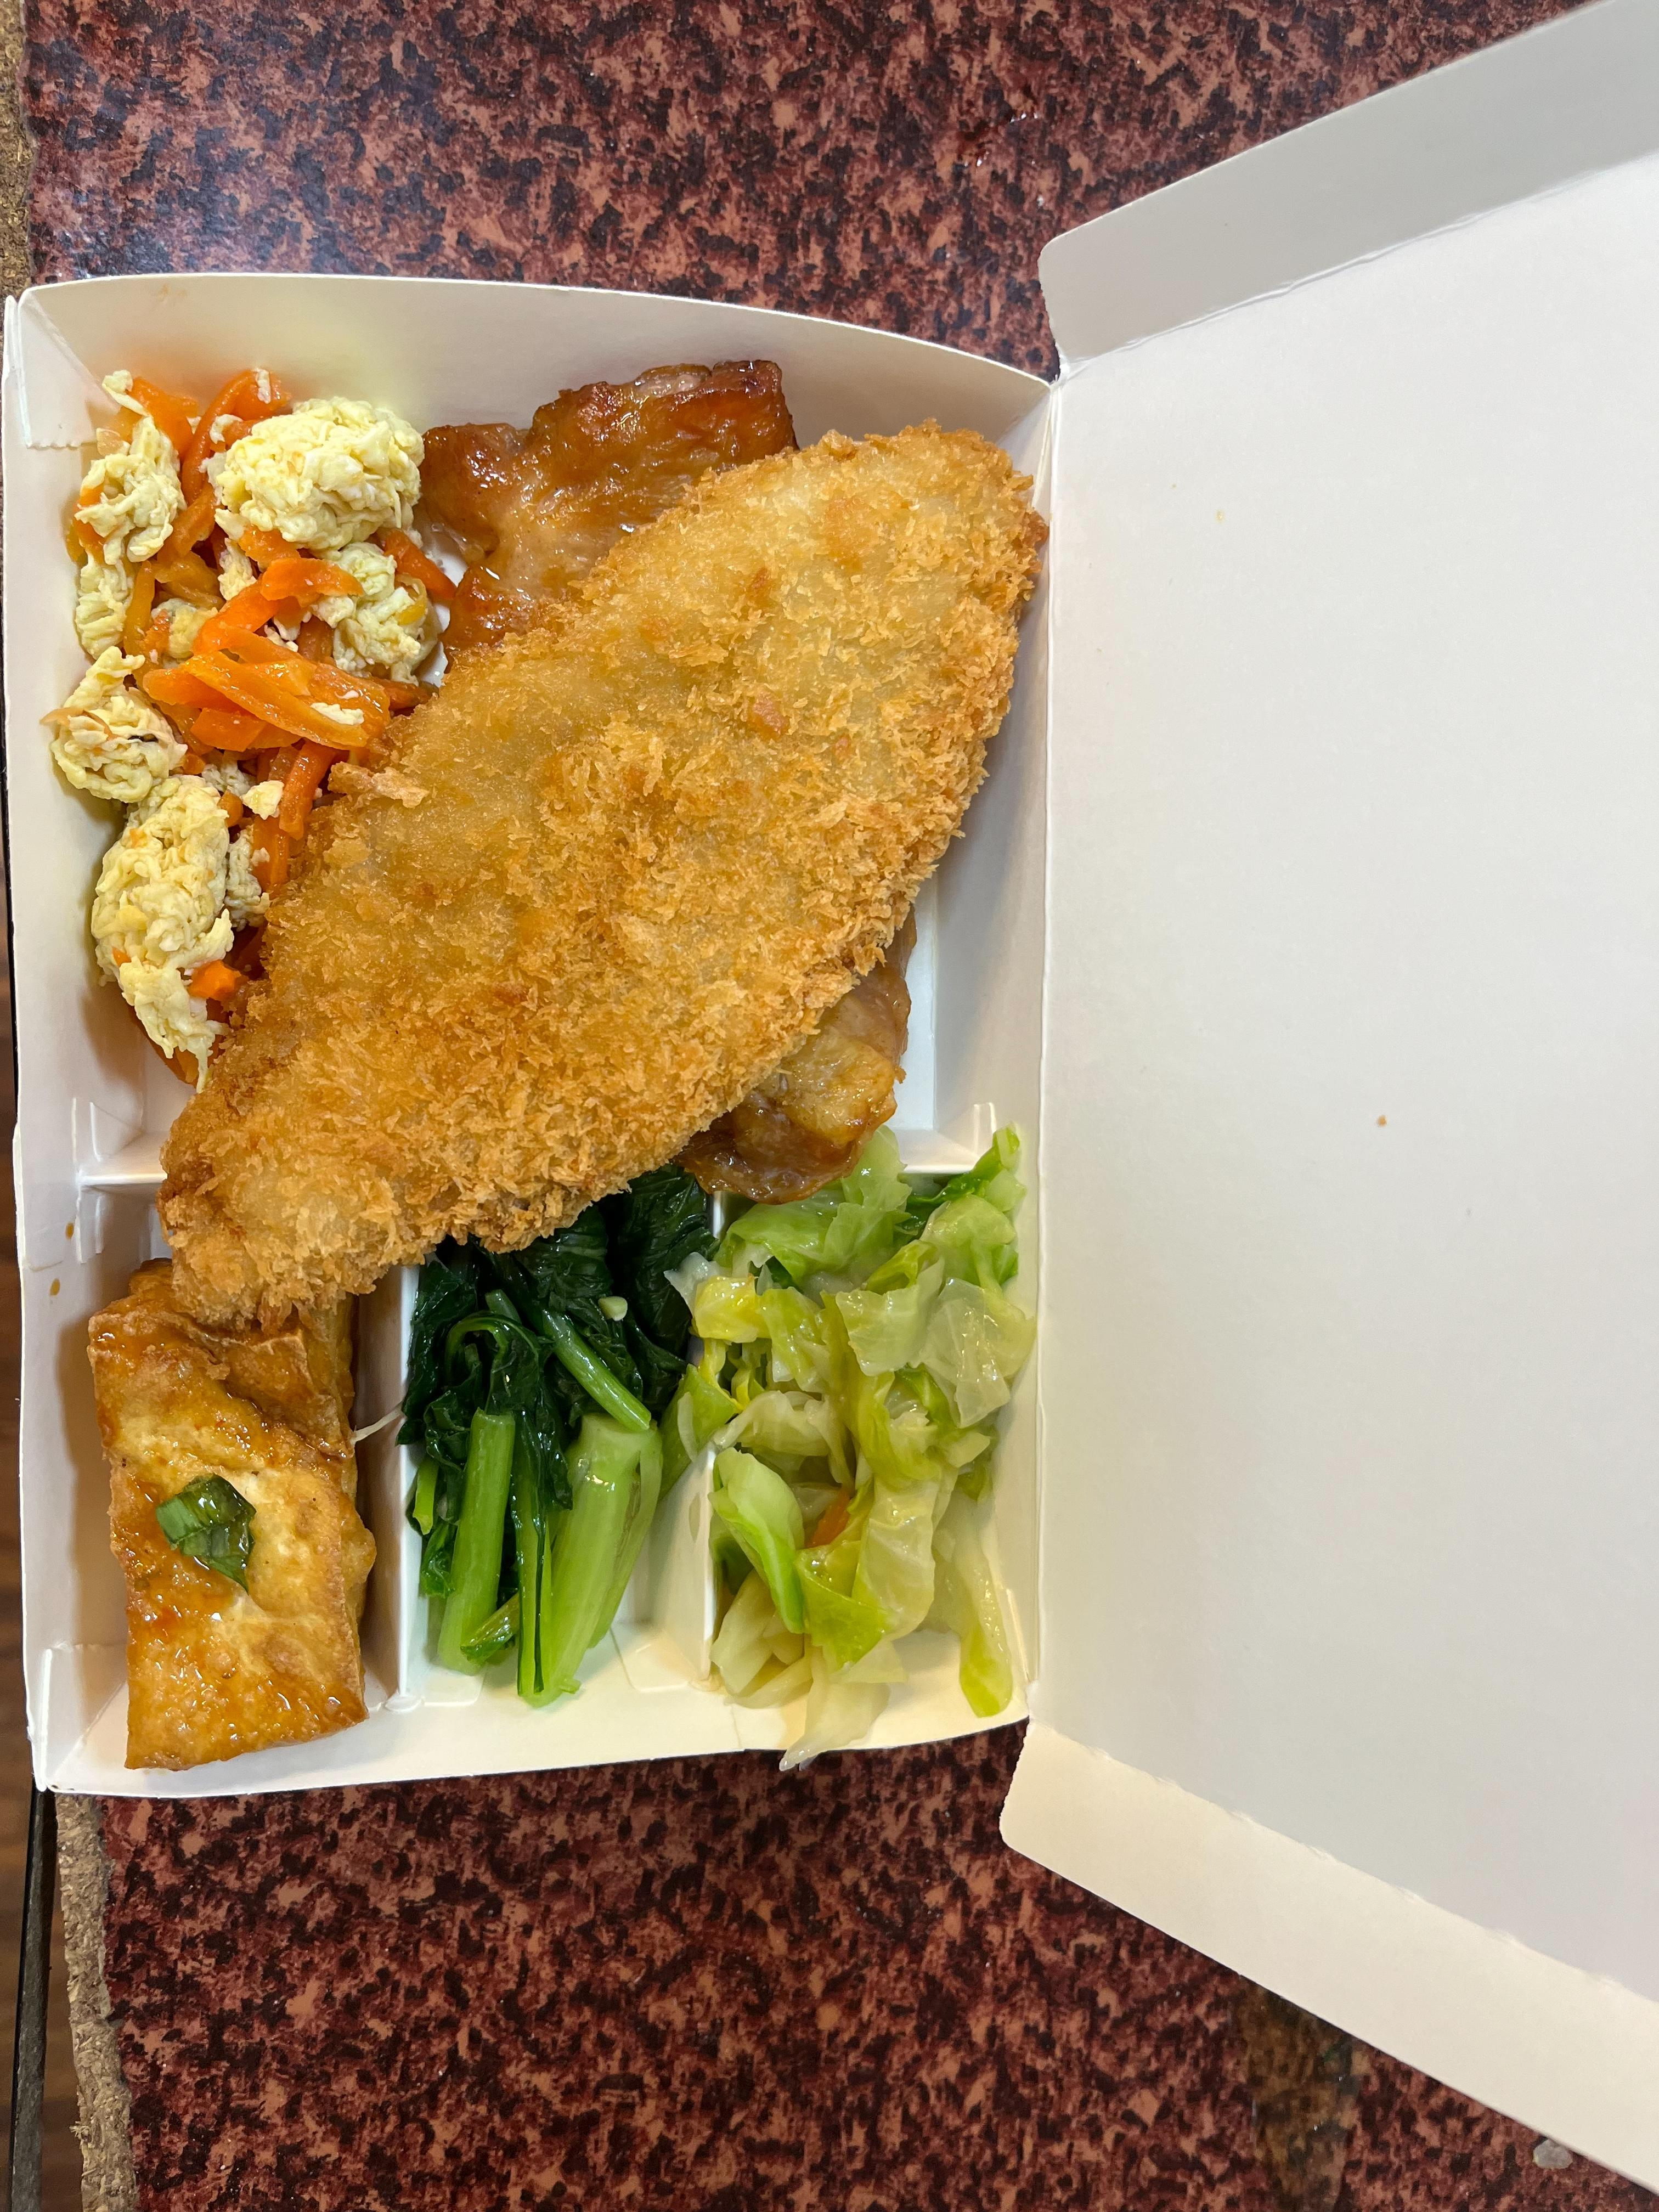big grilled chicken leg: (9, 317, 821, 2212)
braised fish fillet: (45, 463, 317, 1444), (535, 1531, 786, 2212), (291, 1517, 532, 2212), (54, 1604, 288, 2212)
braised pork: (105, 528, 786, 1782)
